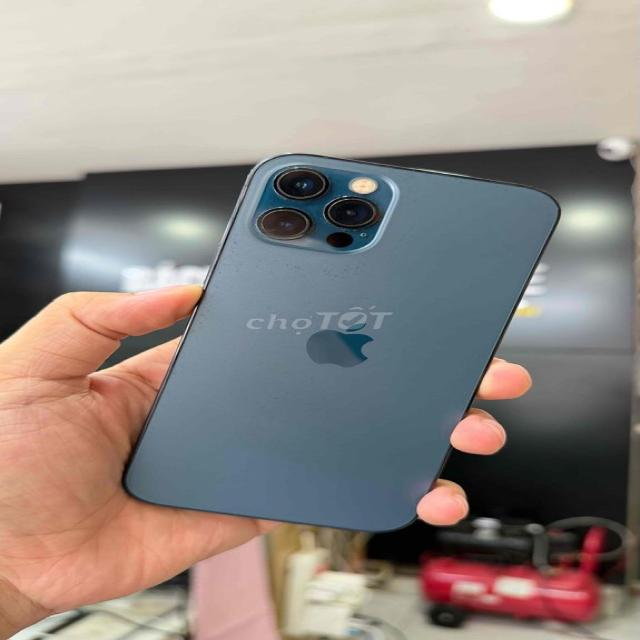gen_12_13: (109, 150, 566, 536)
